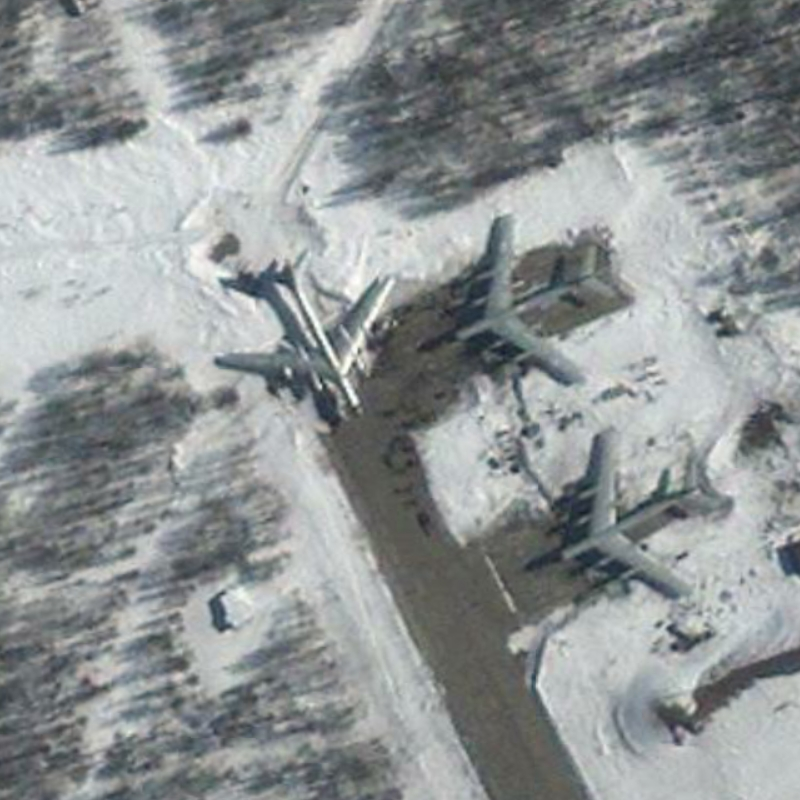A17: (542, 427, 734, 606), (210, 244, 400, 424), (435, 209, 623, 389)
